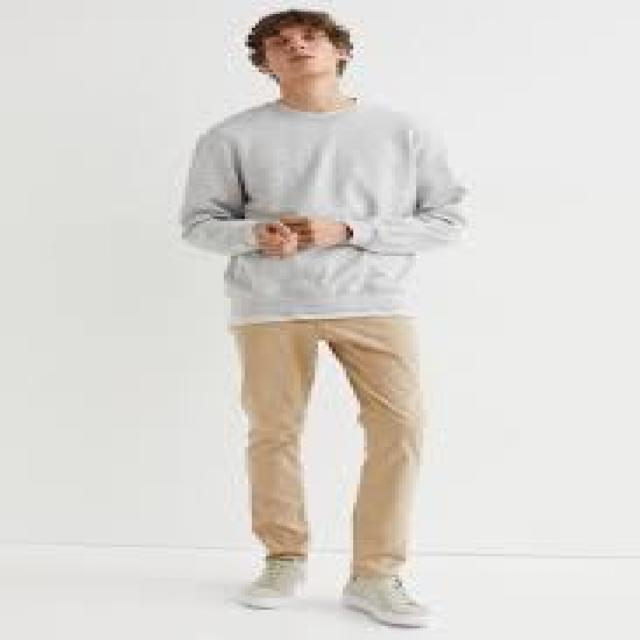plain: (174, 97, 478, 316)
